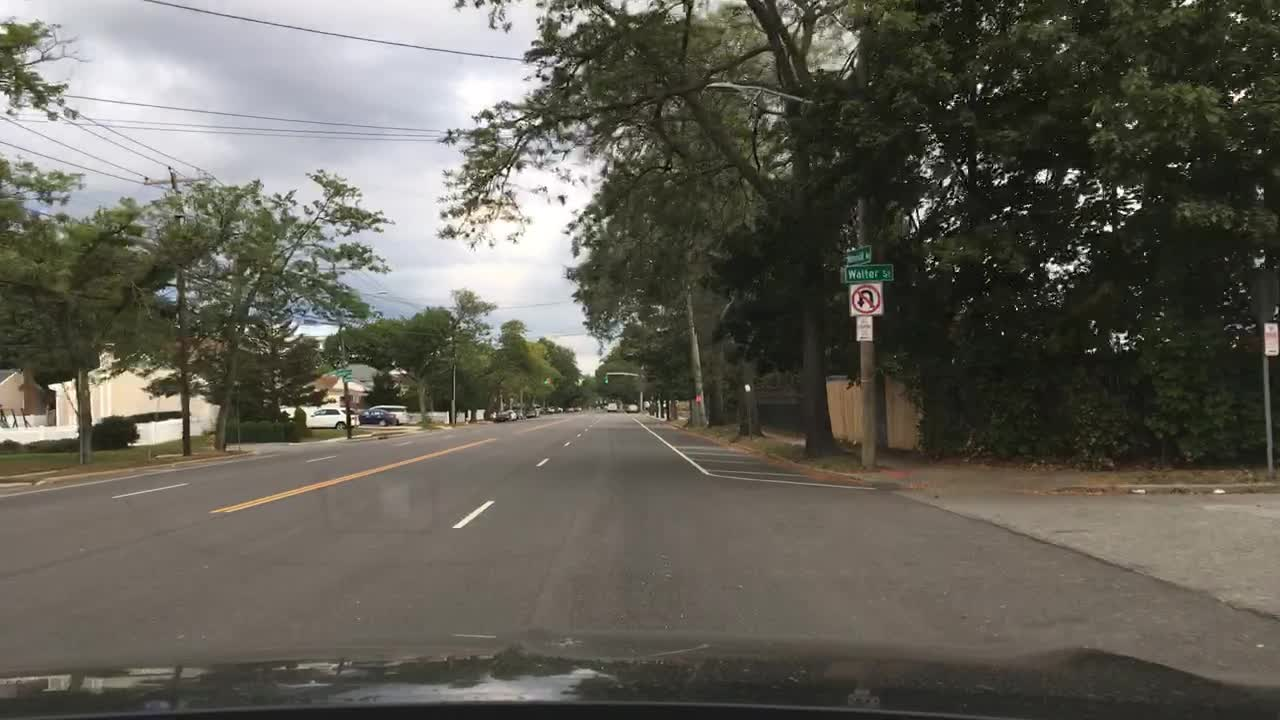car: (301, 406, 359, 432), (371, 402, 408, 423), (359, 409, 397, 429), (488, 408, 509, 423), (520, 404, 537, 422), (509, 406, 527, 422), (660, 399, 681, 411), (623, 402, 642, 415), (604, 401, 619, 415), (548, 402, 564, 415), (590, 401, 607, 413), (530, 401, 544, 415), (572, 404, 586, 416)
person: (640, 399, 651, 416)
traffic light: (602, 374, 609, 388)
traffic sign: (847, 285, 883, 317), (843, 262, 894, 282), (843, 245, 873, 264), (854, 318, 875, 345), (1265, 324, 1279, 355), (331, 367, 350, 376), (340, 376, 357, 383)
